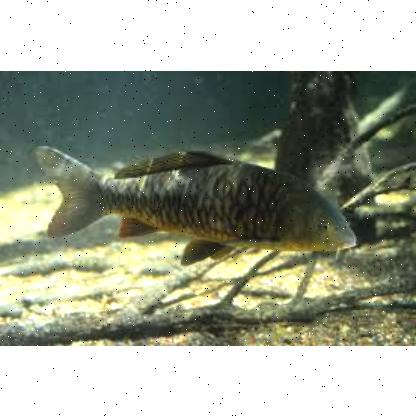ikan-mas: (37, 142, 363, 258)
